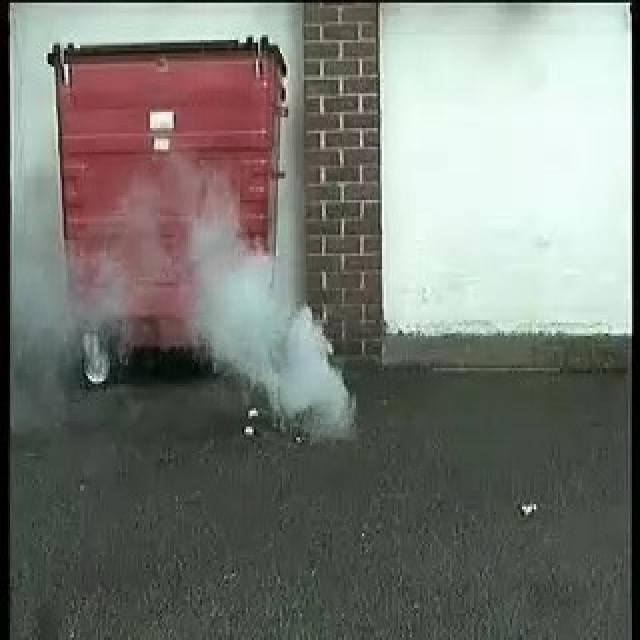smoke: (164, 190, 357, 442)
